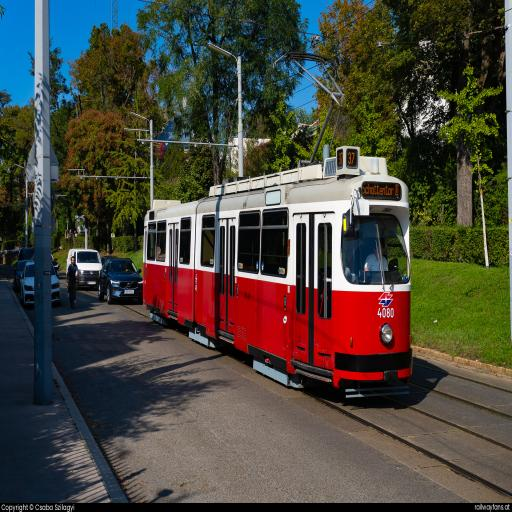E2-Tram: (139, 144, 416, 392)
